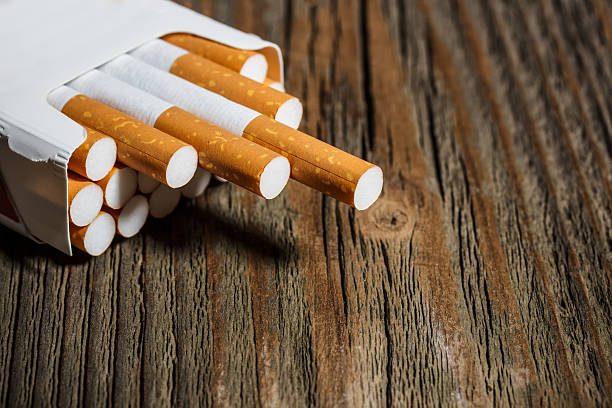cigarette: (0, 0, 285, 259), (97, 53, 384, 210), (64, 68, 292, 201), (45, 84, 199, 191), (129, 38, 303, 130), (161, 33, 268, 83), (69, 126, 118, 183), (92, 160, 139, 209), (67, 169, 104, 227), (70, 210, 116, 255), (116, 195, 150, 238)
